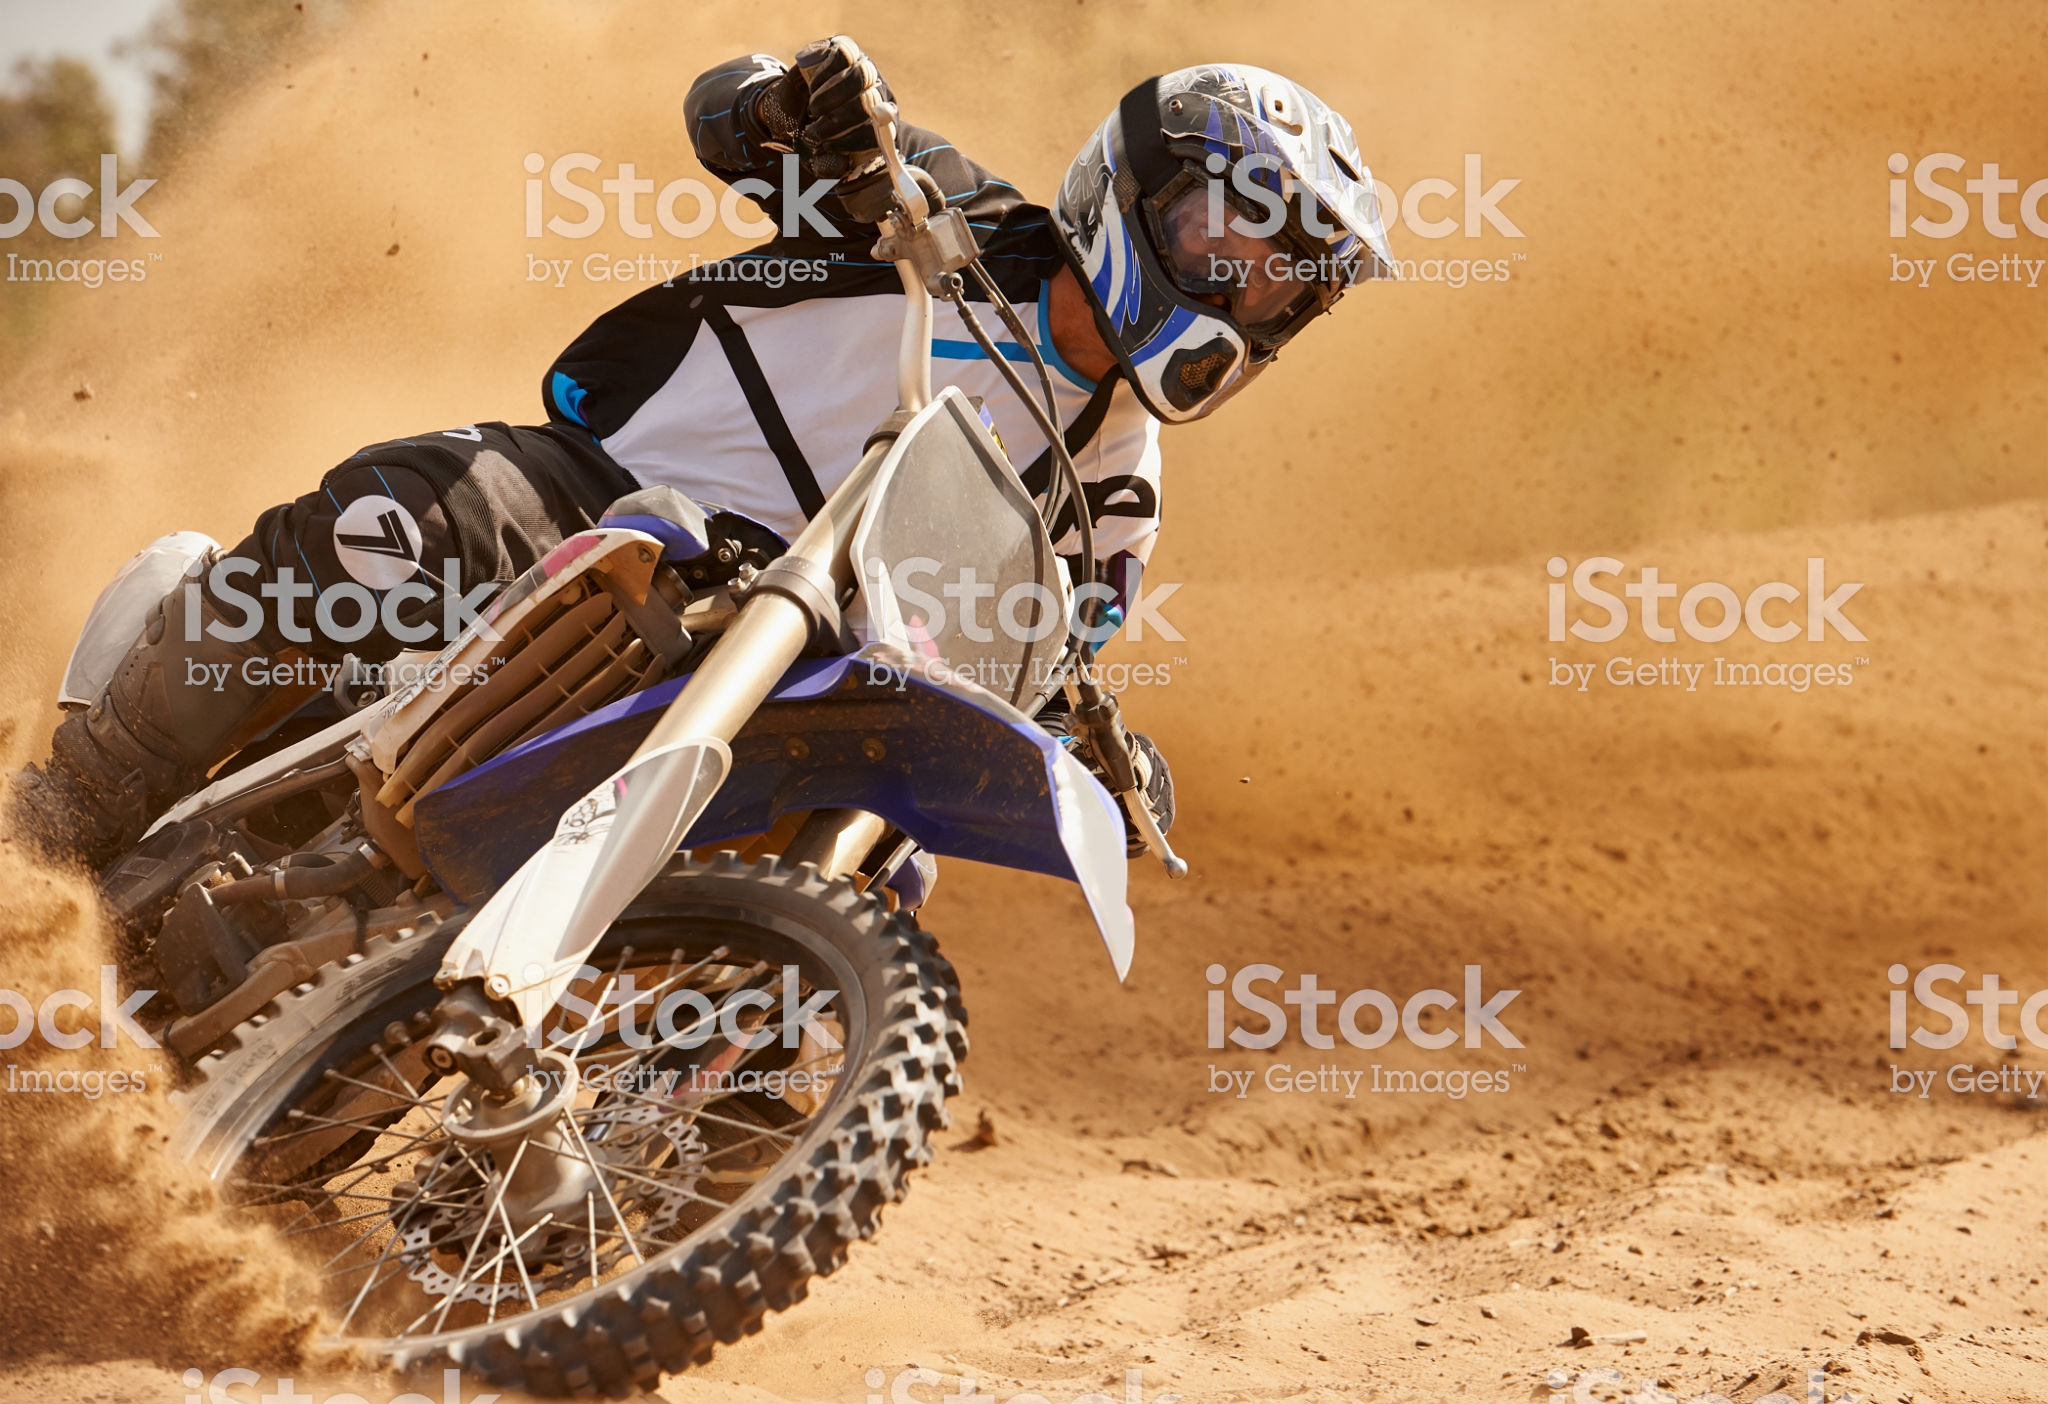helmet: (1054, 76, 1396, 367)
